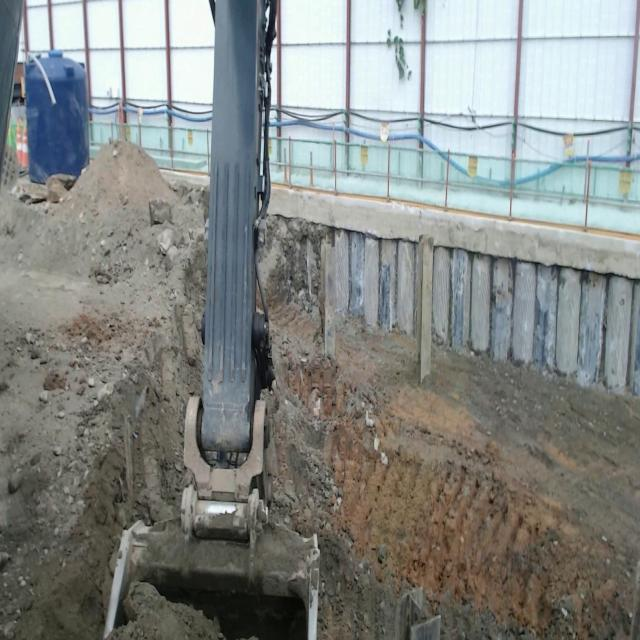red-sand: (263, 279, 640, 640), (18, 300, 203, 640)
